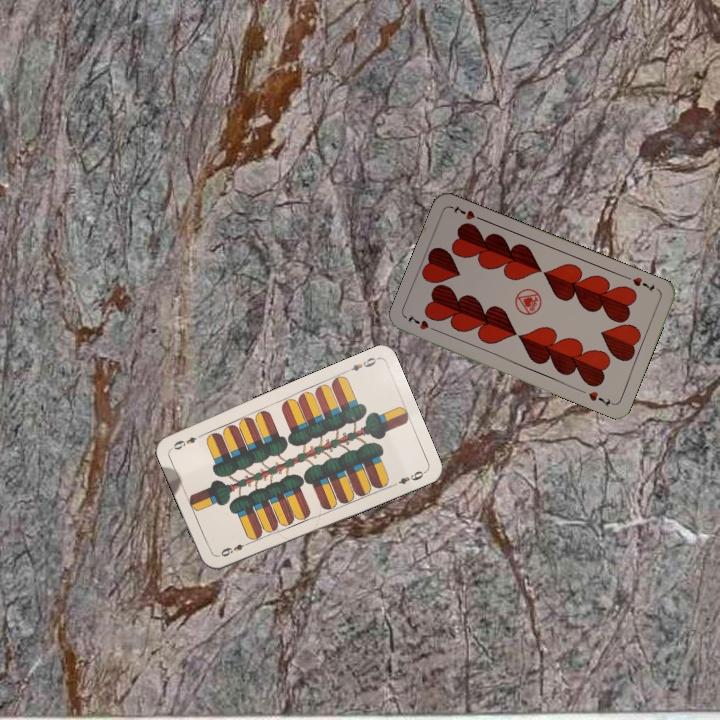E9: (341, 353, 380, 375), (214, 538, 253, 559)
H7: (404, 311, 441, 335), (629, 273, 657, 295)
